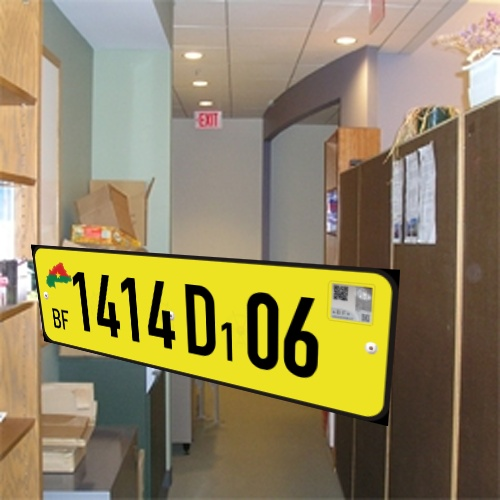plate: (24, 228, 414, 433)
